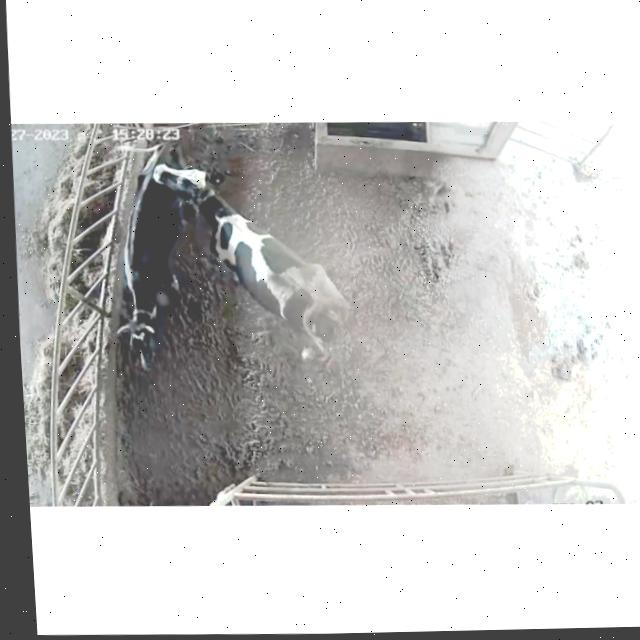propping: (128, 143, 262, 248)
